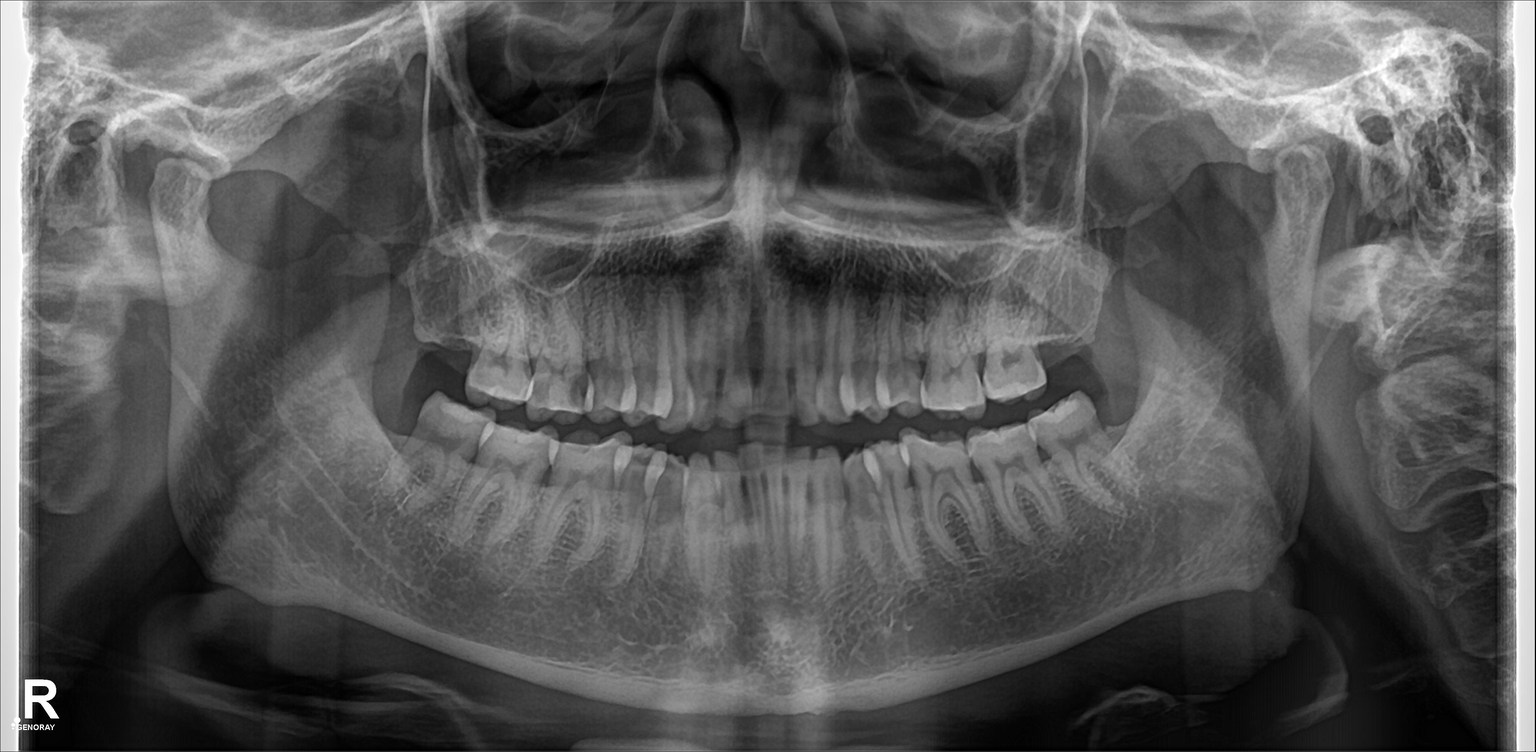Dental Caries: (566, 369, 593, 411)
Impacted Third Molar: (1041, 400, 1126, 500)
Missing Tooth: (1028, 277, 1088, 372), (417, 290, 472, 389), (363, 277, 417, 371), (372, 382, 417, 472)
